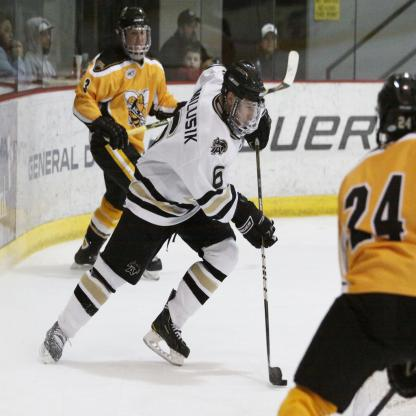Helmet: (220, 65, 270, 132), (378, 71, 416, 140), (118, 5, 153, 59)
